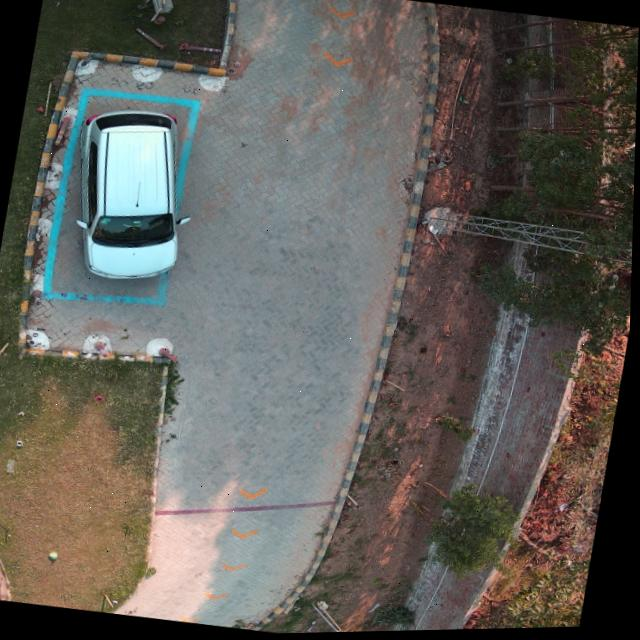car: (77, 110, 191, 280)
